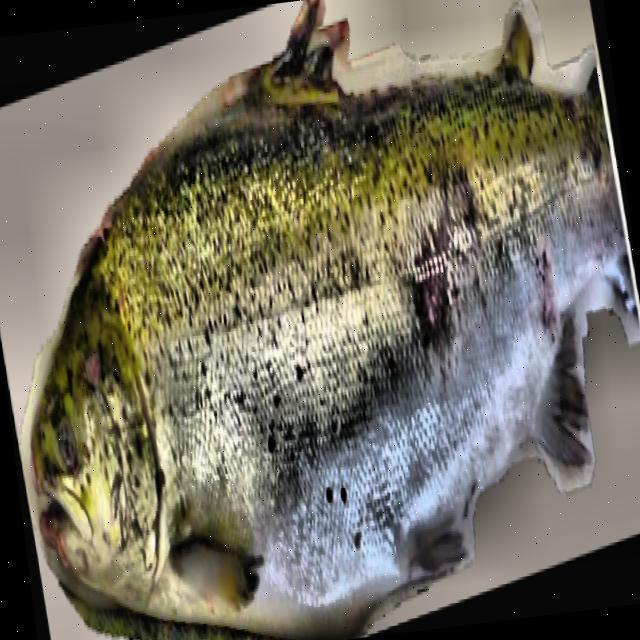mild_red: (100, 72, 624, 637)
